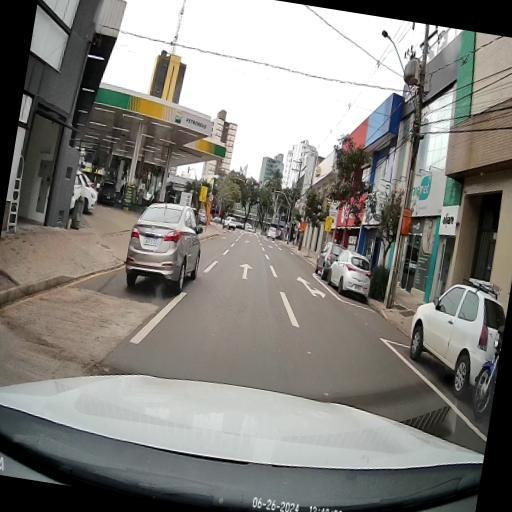R-6a: (208, 193, 214, 202)
